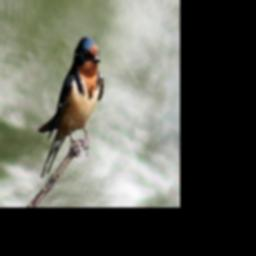Swallow: (41, 34, 106, 180)
